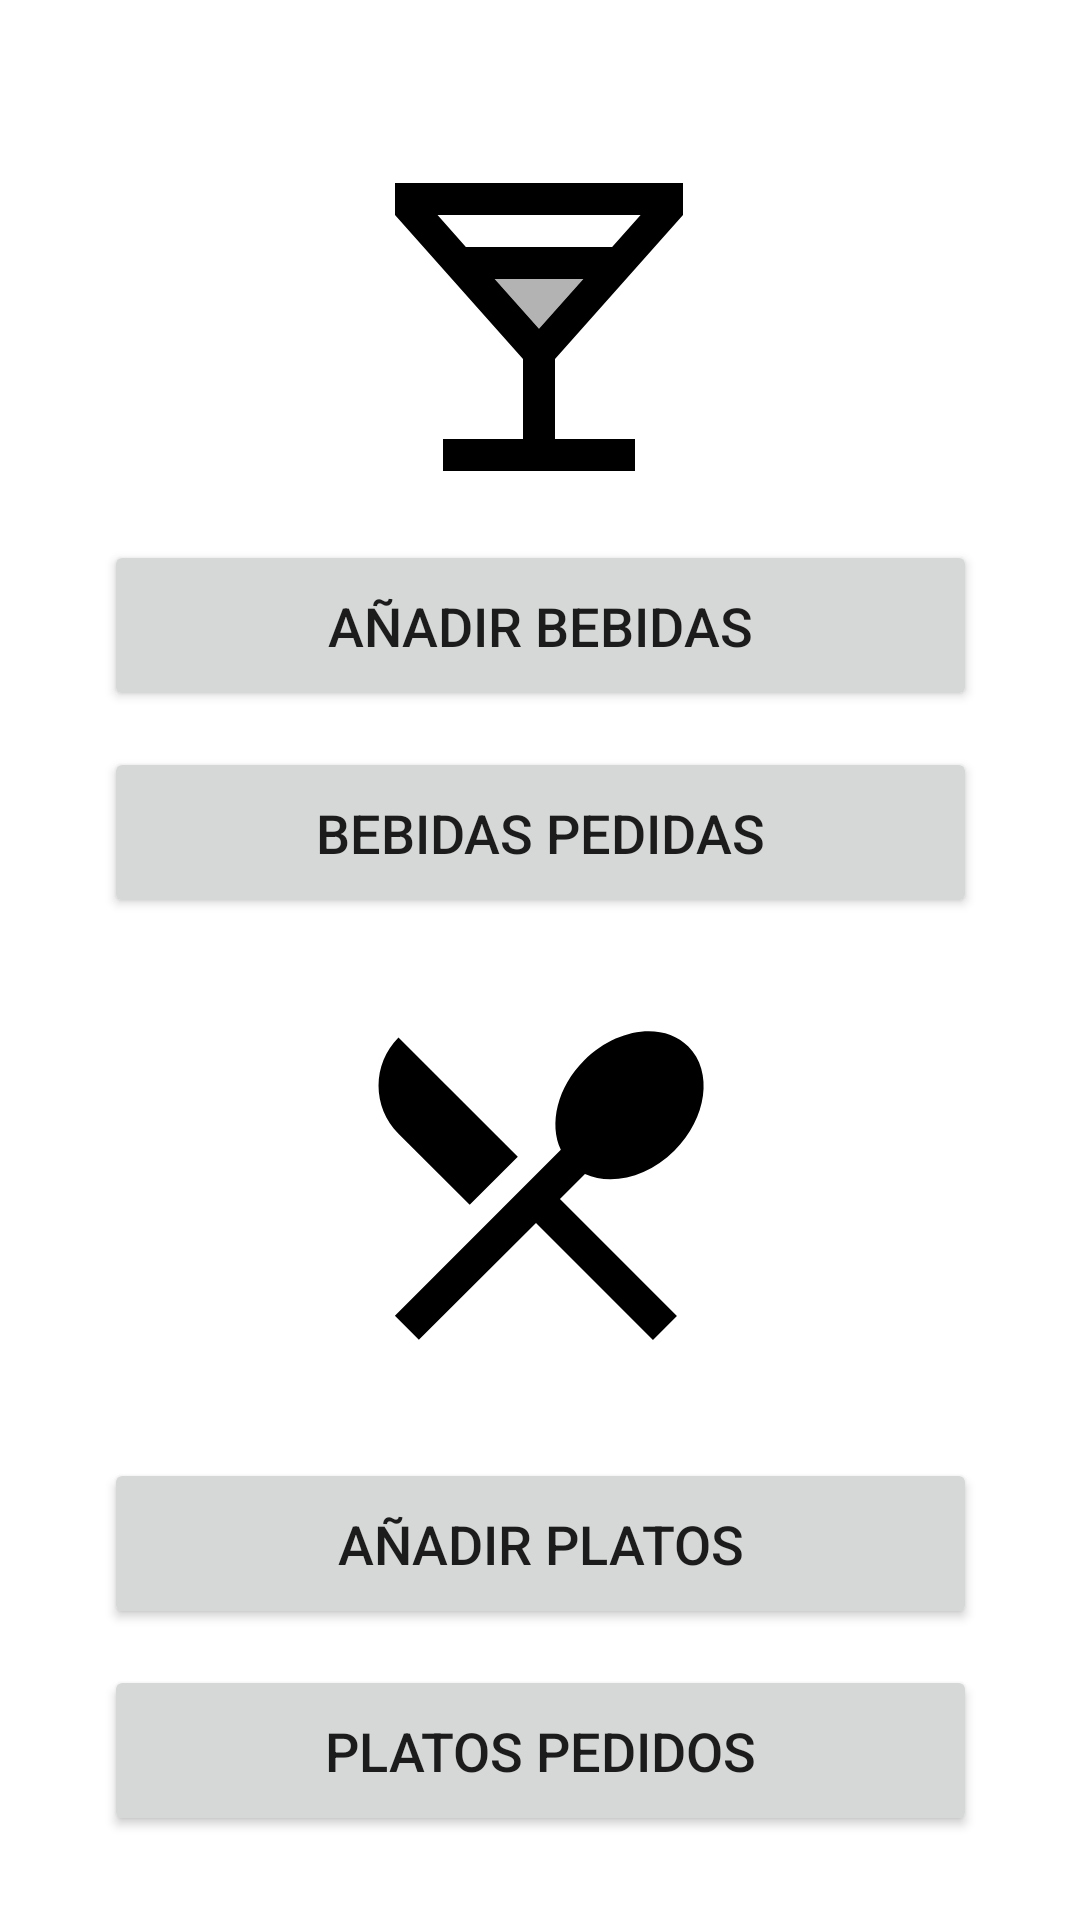

Screen size 1080×1920. Icon name, then its box in pixels as (x1, y1, x2, y2):
drinks: (395, 183, 683, 471)
plates: (378, 1031, 704, 1340)
